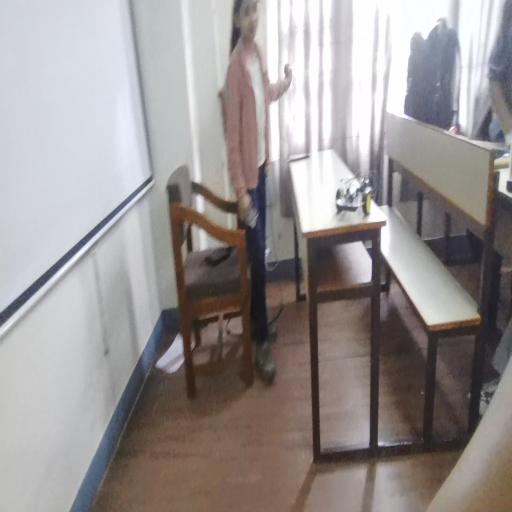car: (333, 172, 385, 230)
